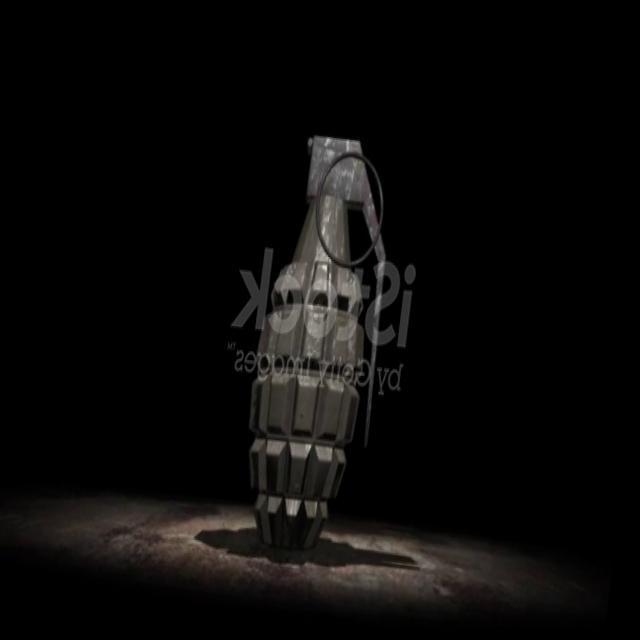grenade: (231, 120, 406, 566)
